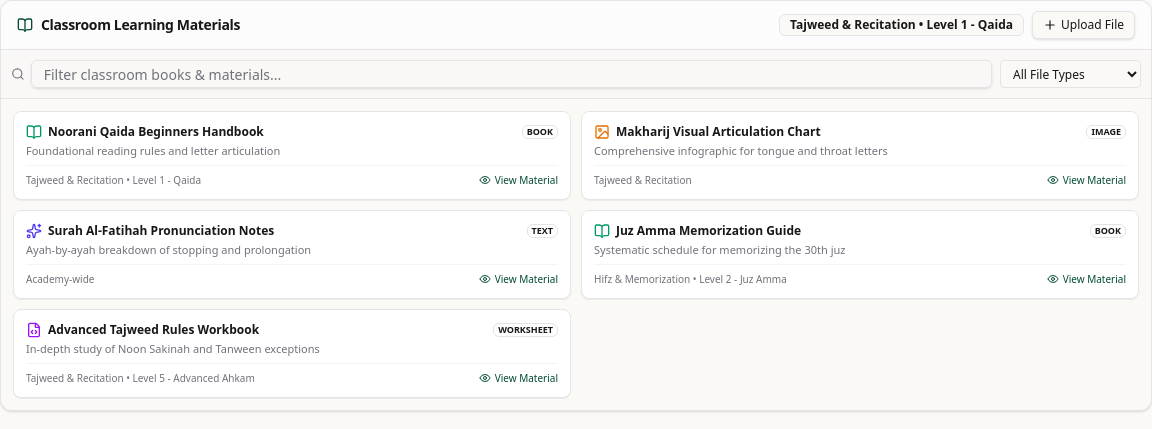
Learning Materials Feature › renders materials in the classroom component and allows viewing text
This screenshot has width=1152, height=429.
Expected: the text "Classroom Learning Materials" is shown, x1=41 y1=15 x2=240 y2=35
Expected: the text "Noorani Qaida Beginners Handbook" is shown, x1=48 y1=124 x2=264 y2=140
Note: Click to view text material
Click the text "Surah Al-Fatihah Pronunciation Notes": (161, 231) x1=48 y1=223 x2=274 y2=239
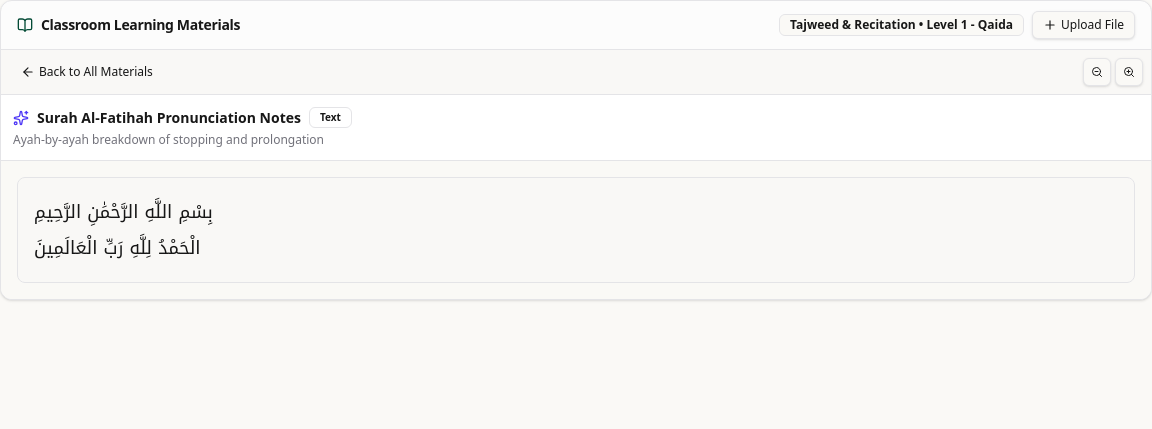
Result: the button "Back to All Materials" is shown at x1=9 y1=58 x2=165 y2=86
Result: the text "بِسْمِ اللَّهِ الرَّحْمَٰنِ الرَّحِيمِ" is shown at x1=34 y1=195 x2=213 y2=265
